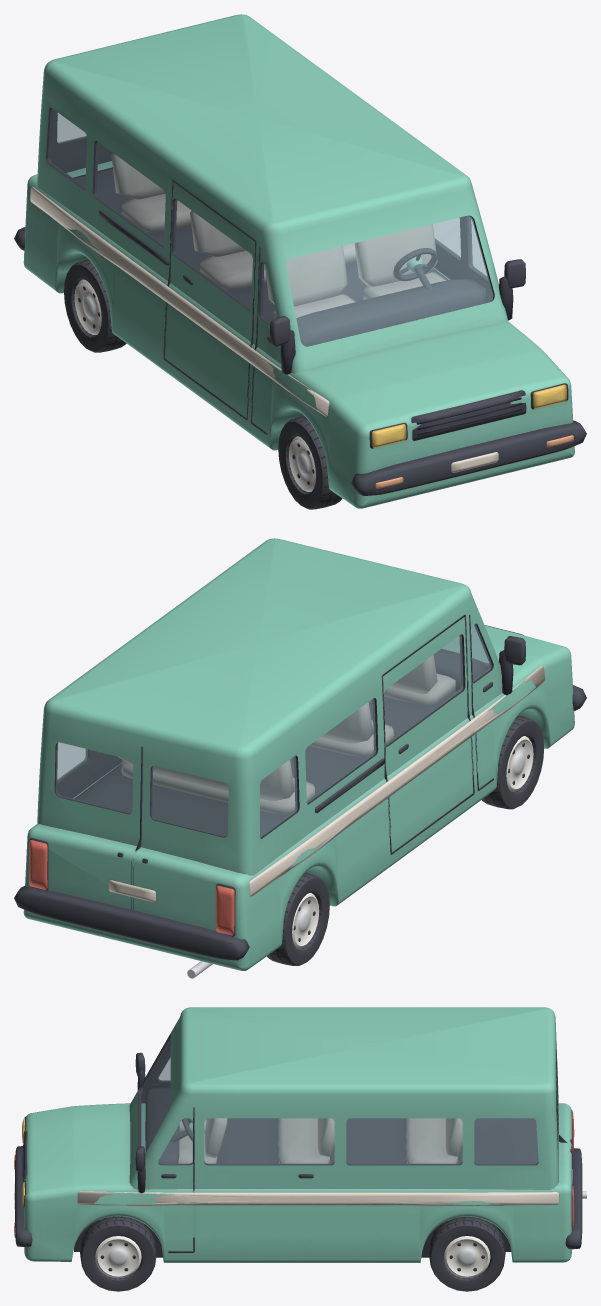
File: 1980s-van.glb
The picture shows the model from 3 angles, top to bottom: view 1: azimuth 30°, elevation 25°; view 2: azimuth 150°, elevation 25°; view 3: azimuth 270°, elevation 25°; orthographic projection. The views are drawn at different scales.
Visible parts, largest first — view 1: 1980s-van_body, 1980s-van_windows, 1980s-van_wheel_fr, 1980s-van_wheel_rr; view 2: 1980s-van_body, 1980s-van_windows, 1980s-van_wheel_rr, 1980s-van_wheel_fr; view 3: 1980s-van_body, 1980s-van_windows, 1980s-van_wheel_fl, 1980s-van_wheel_rl.
Part boxes in pixels (<box>): 1980s-van_body: <box>14,14,586,508</box>; 1980s-van_windows: <box>48,108,493,346</box>; 1980s-van_wheel_fr: <box>278,416,342,509</box>; 1980s-van_wheel_rr: <box>64,259,126,352</box>; 1980s-van_body: <box>14,538,586,978</box>; 1980s-van_windows: <box>56,624,491,837</box>; 1980s-van_wheel_rr: <box>267,872,329,965</box>; 1980s-van_wheel_fr: <box>482,715,544,809</box>; 1980s-van_body: <box>14,1007,586,1262</box>; 1980s-van_windows: <box>139,1038,538,1164</box>; 1980s-van_wheel_fl: <box>80,1216,156,1291</box>; 1980s-van_wheel_rl: <box>429,1216,505,1291</box>.
Bounding box in the file's own units: 2.05 × 1.93 × 4.93.
Materials: 18 (5 with a texture image).
